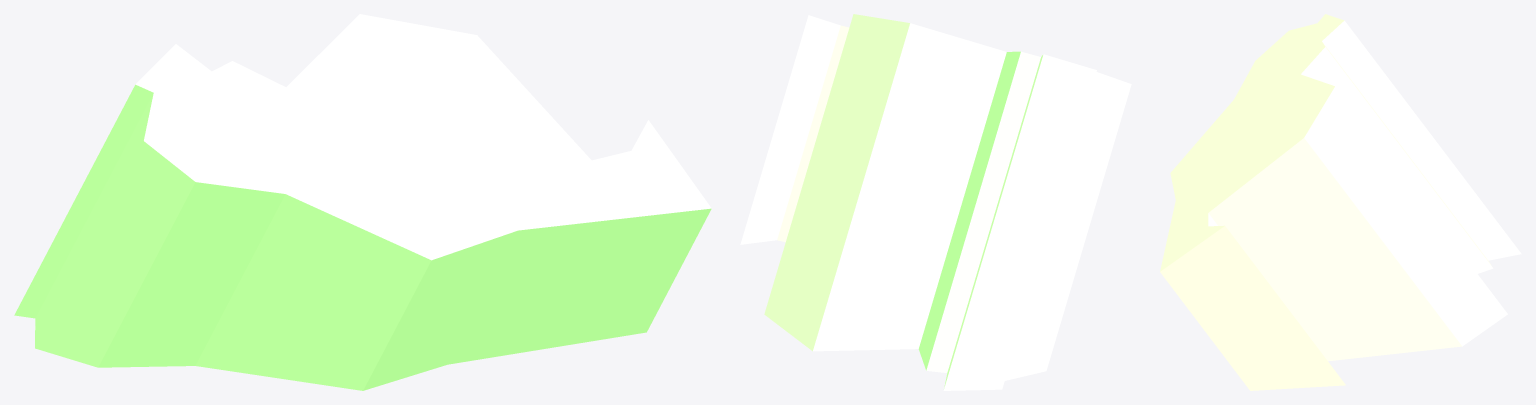
The model's file is Leaf3.glb.
3 renders of one model, left to right at view 1: azimuth 30°, elevation 25°; view 2: azimuth 150°, elevation 25°; view 3: azimuth 270°, elevation 25°, orthographic. The views are drawn at different scales.
Visible parts, largest first — view 1: Plane.003; view 2: Plane.003; view 3: Plane.003.
Part boxes in pixels (x1=…): Plane.003: x1=14, y1=14, x2=711, y2=390; Plane.003: x1=740, y1=14, x2=1131, y2=390; Plane.003: x1=1160, y1=14, x2=1521, y2=390.
Size of the model in its own units: 6.33 by 4.29 by 6.02.
